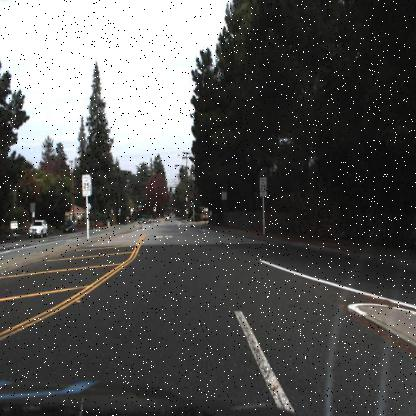car: (27, 215, 50, 240), (58, 217, 76, 235), (144, 214, 152, 225)
trafficLight-Green: (189, 195, 195, 208), (168, 184, 174, 196)
